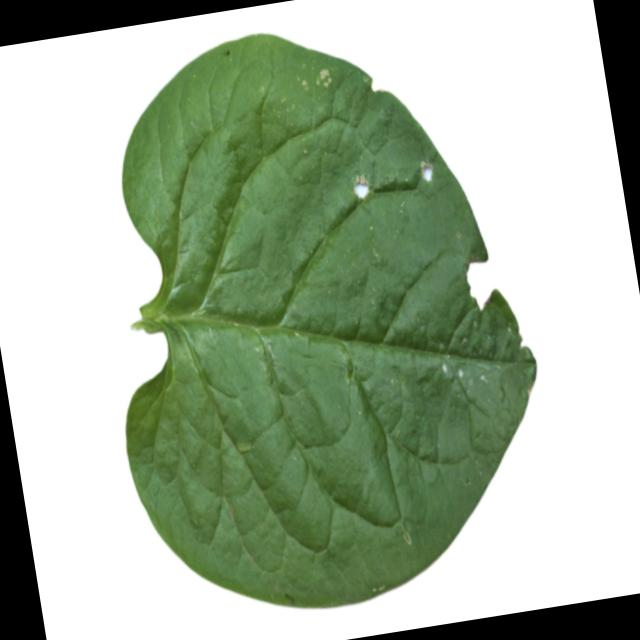Medicinal-Basale: (65, 0, 569, 640)
